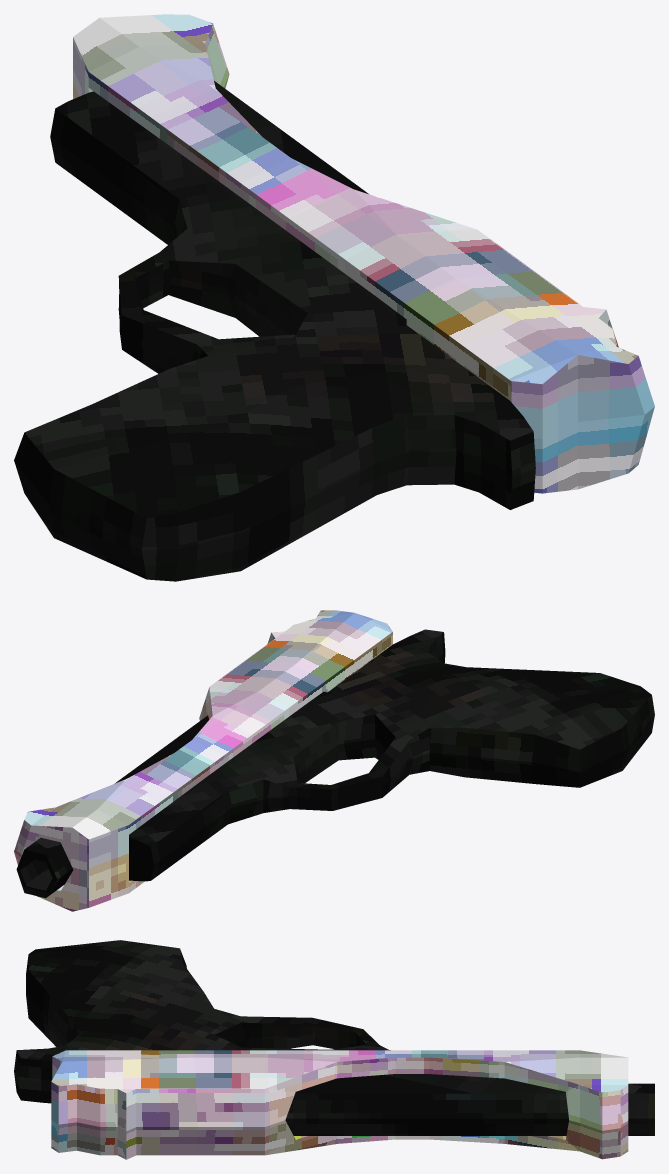
The model's file is test_gun_pickup.glb.
The picture shows the model from 3 angles, top to bottom: view 1: azimuth 30°, elevation 25°; view 2: azimuth 150°, elevation 25°; view 3: azimuth 270°, elevation 25°; orthographic projection. The views are drawn at different scales.
Visible parts, largest first — view 1: Gun Body, Gun Top; view 2: Gun Body, Gun Top; view 3: Gun Body, Gun Top.
Boxes of the visible parts, bbox=[...] form: Gun Body: bbox=[14, 81, 535, 581]; Gun Top: bbox=[73, 14, 654, 493]; Gun Body: bbox=[16, 629, 654, 898]; Gun Top: bbox=[14, 610, 392, 911]; Gun Body: bbox=[14, 940, 654, 1135]; Gun Top: bbox=[51, 1050, 628, 1159].
Bounding box in the file's own units: 0.7682 × 0.171 × 1.21.
2 materials, 2 textured.
